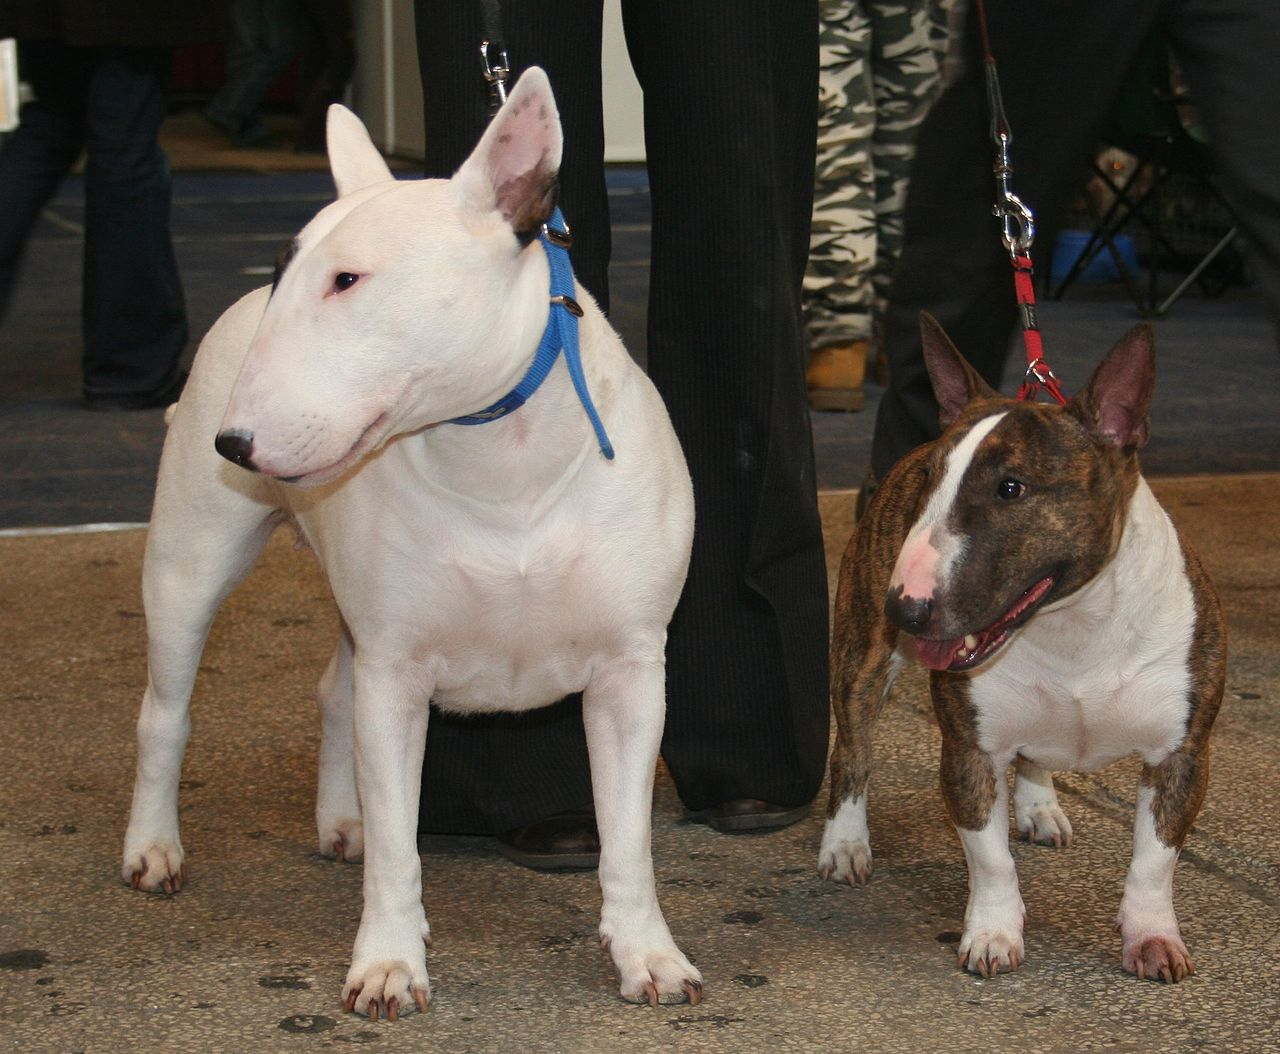Dog: (118, 68, 727, 1020), (810, 305, 1216, 1020)
